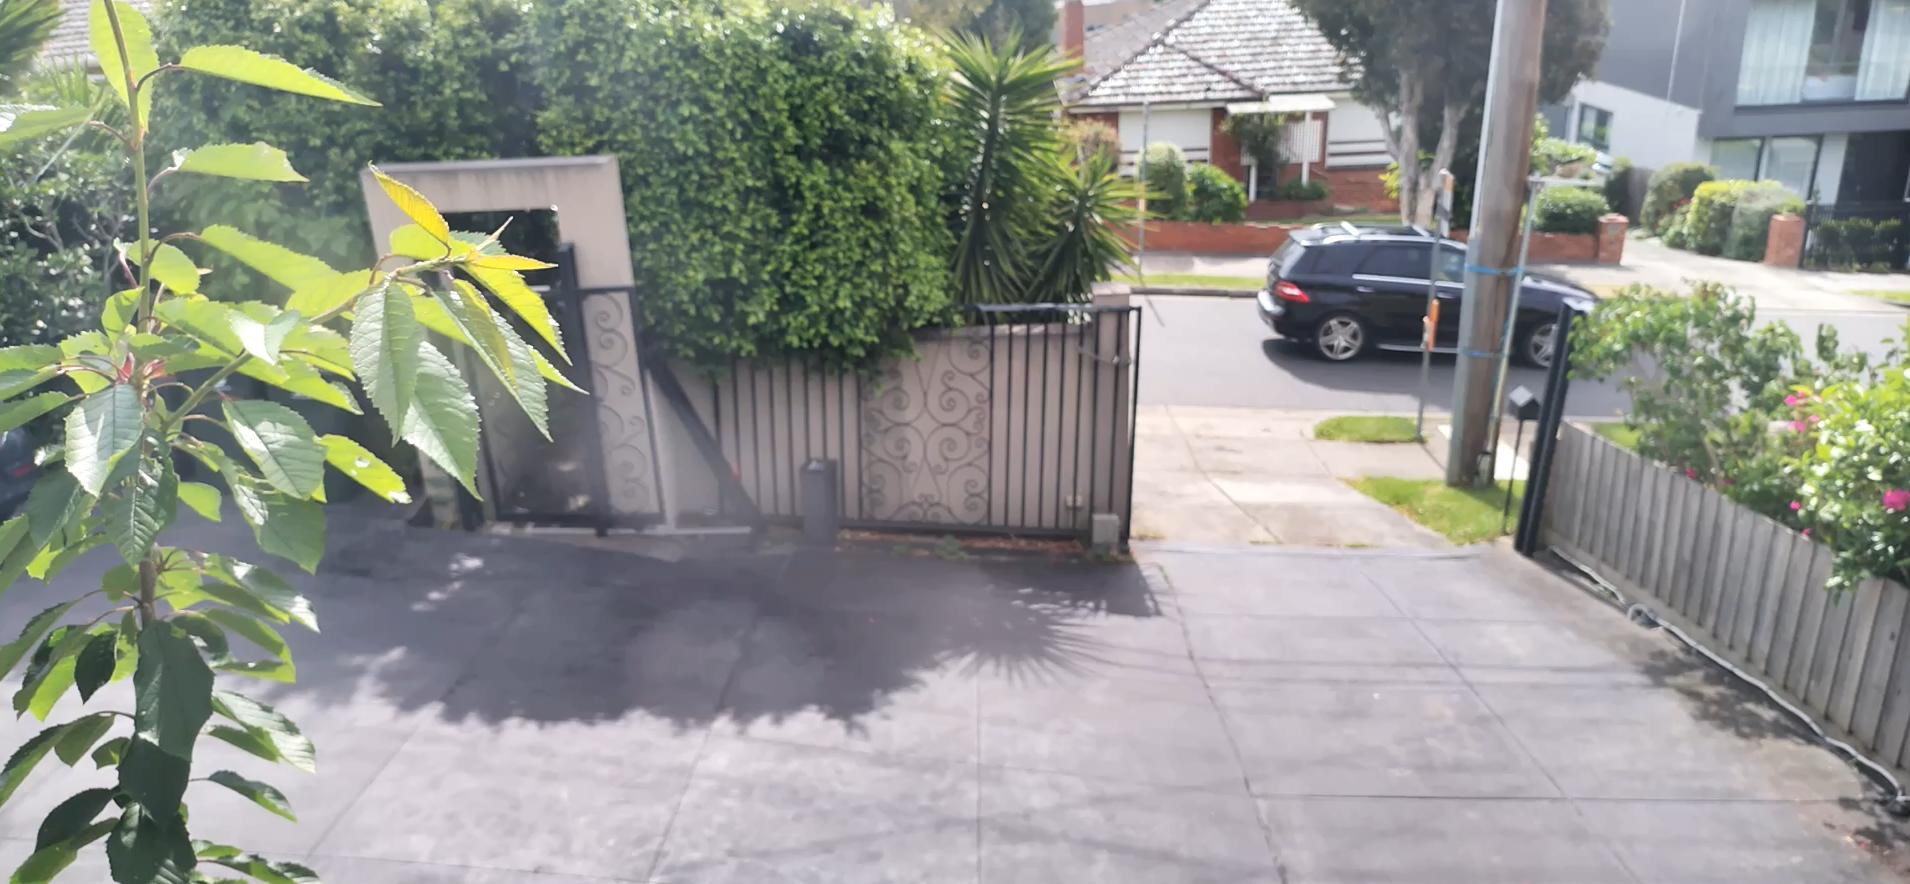vehicle type 1: (1255, 220, 1602, 373)
wheel: (1316, 315, 1366, 362), (1525, 323, 1558, 369)
